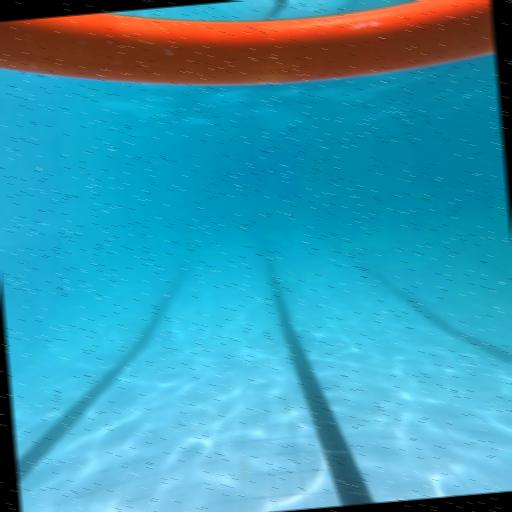upper_gate: (0, 0, 496, 107)
